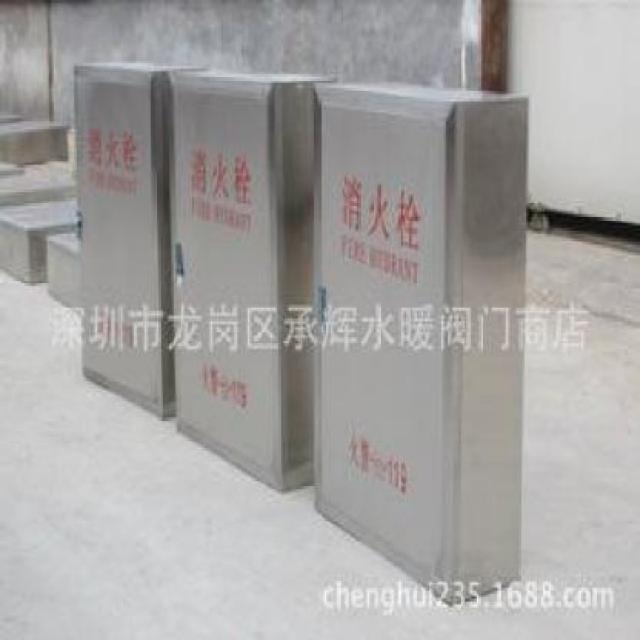firehydrant: (309, 76, 533, 610), (168, 61, 343, 497), (71, 57, 214, 425)
